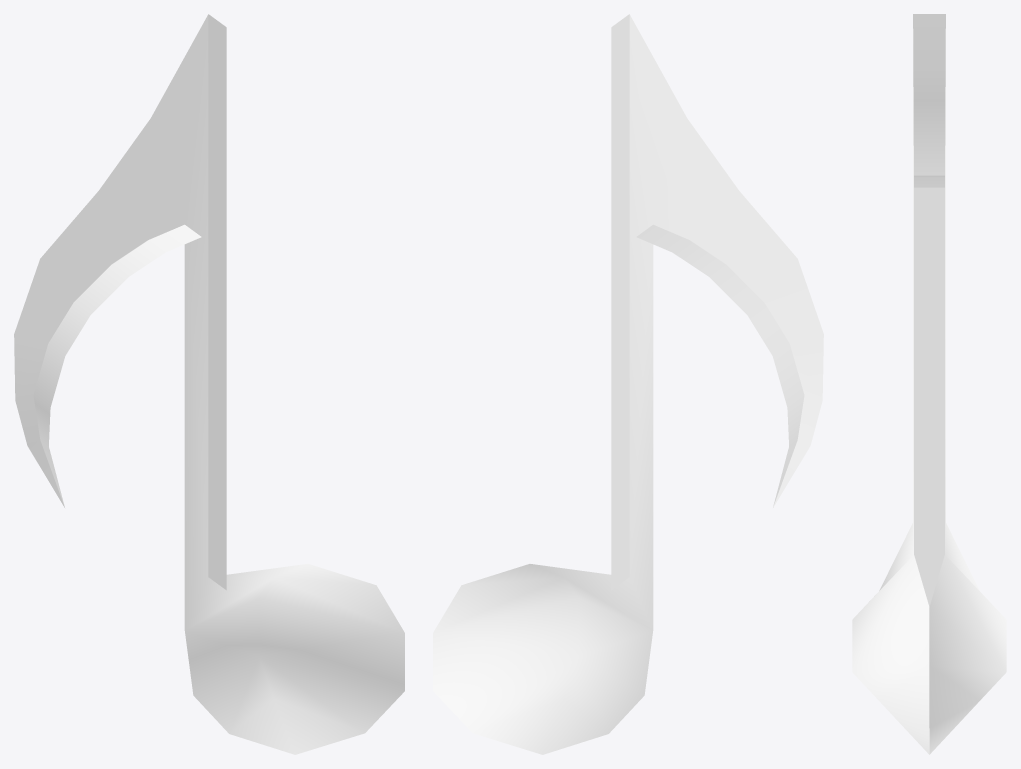
File: ps2_save-icons_karaokerevolutionanimesongcollection.glb
The picture shows the model from 3 angles, left to right: view 1: azimuth 30°, elevation 25°; view 2: azimuth 150°, elevation 25°; view 3: azimuth 270°, elevation 25°; orthographic projection. The views are drawn at different scales.
Visible parts, largest first — view 1: KREVO.ICN; view 2: KREVO.ICN; view 3: KREVO.ICN.
Boxes of the visible parts, x1,y1,x2,y2 form: KREVO.ICN: (14,14,404,754); KREVO.ICN: (433,14,823,754); KREVO.ICN: (852,14,1006,754).
Size of the model in its own units: 2.65 by 5 by 1.03.
Materials: 1 (1 with a texture image).
